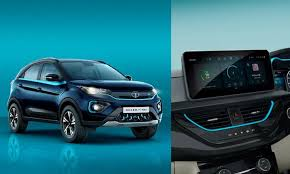Tata Nexon: (6, 56, 163, 145)
